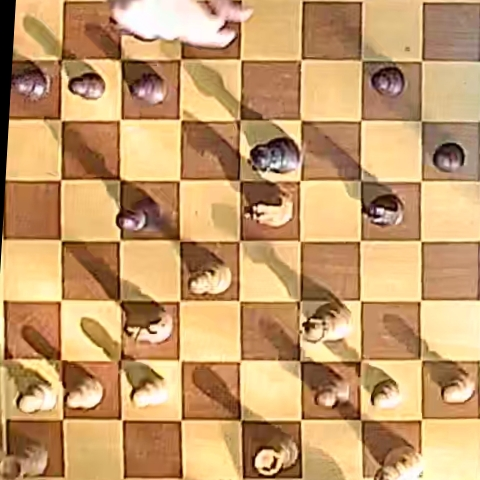black-bishop: (114, 199, 156, 235)
black-knight: (365, 194, 405, 228)
black-pawn: (12, 67, 50, 102), (129, 72, 166, 104), (371, 66, 405, 97), (69, 72, 106, 100), (433, 142, 465, 172)
black-queen: (250, 137, 299, 174)
white-bishop: (188, 263, 231, 295)
white-king: (378, 446, 424, 480)
white-knight: (244, 187, 296, 227), (123, 302, 171, 345)
white-pawn: (65, 375, 104, 411), (18, 381, 59, 414), (313, 376, 351, 410), (130, 375, 169, 408), (438, 372, 475, 405), (371, 379, 402, 410)
white-queen: (303, 298, 352, 343)
white-rook: (253, 434, 298, 477), (2, 441, 49, 478)
